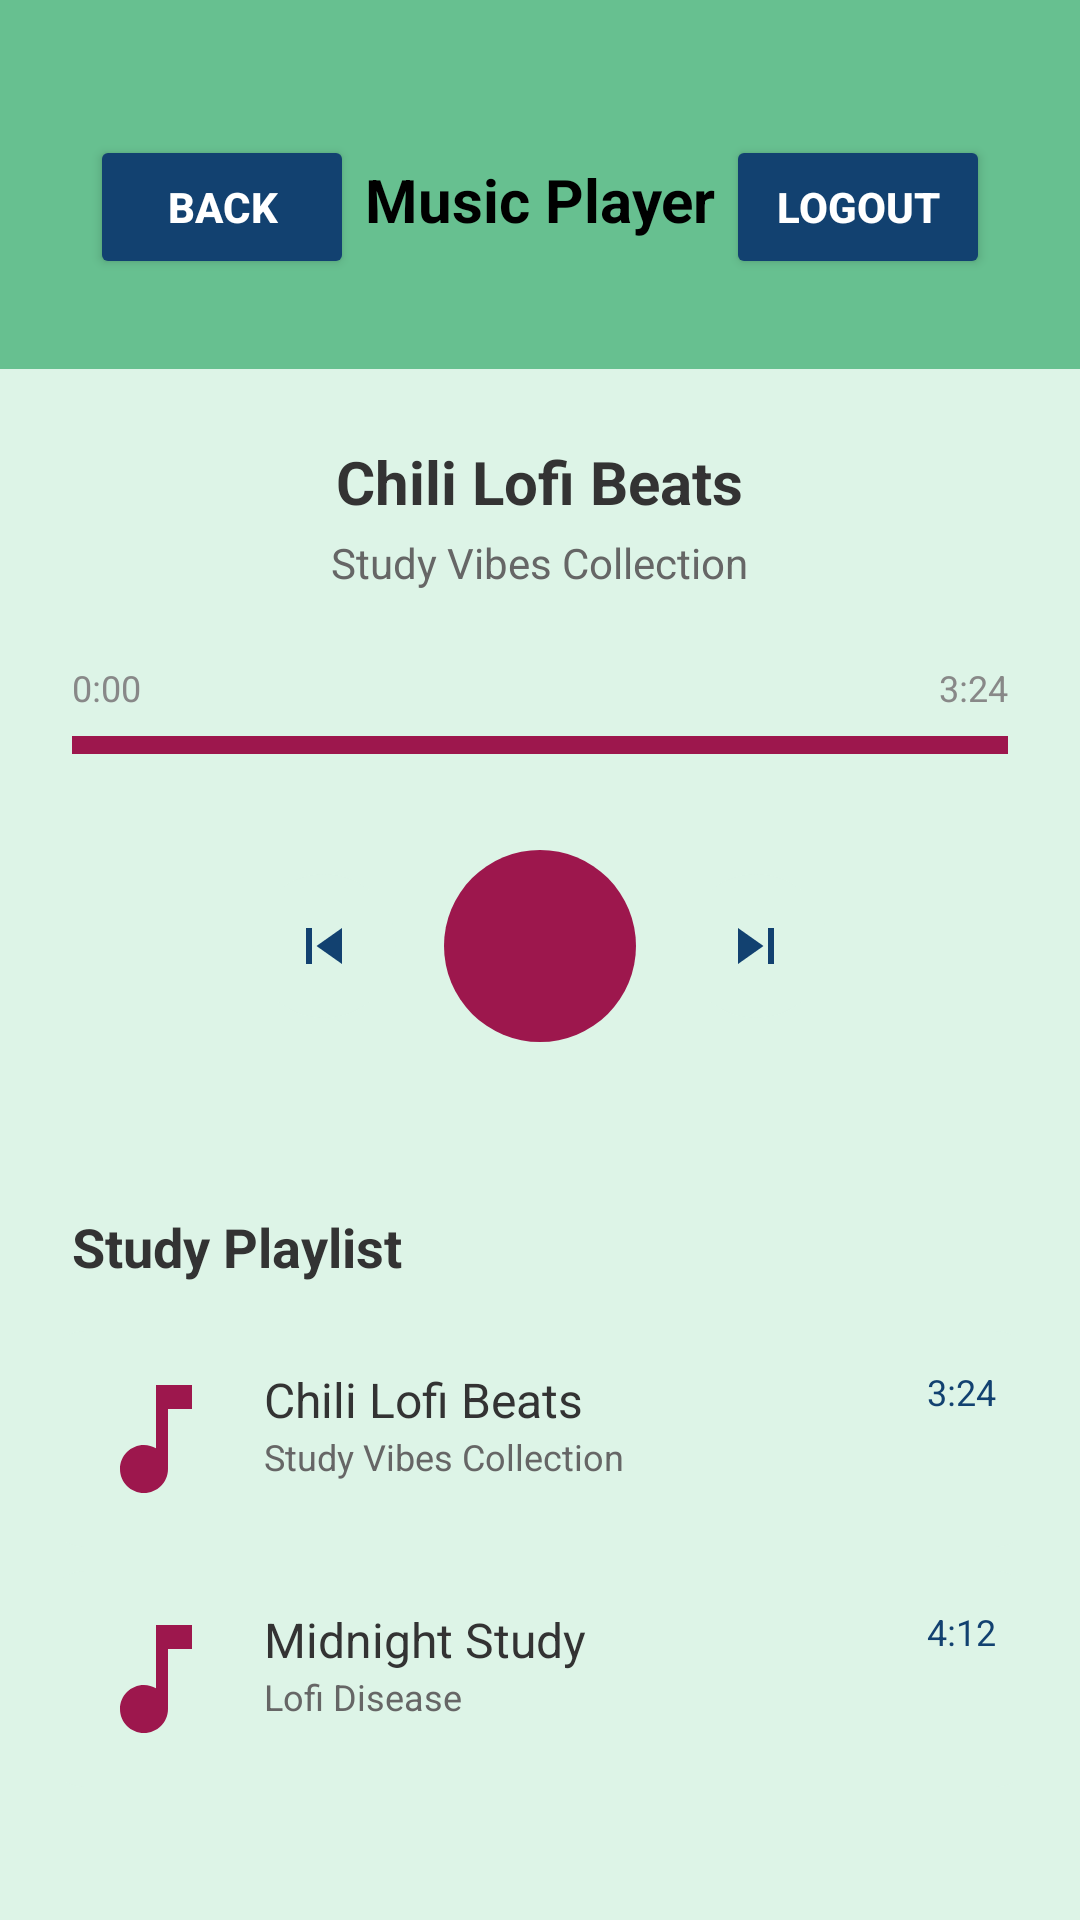

Where to tap for icons on this 1080px×1920px app screen, as (x,y):
music note: (156,1439), (156,1679)
Next: (756,946)
Previous: (324,946)
